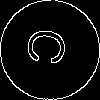C: (25, 25, 77, 70)
